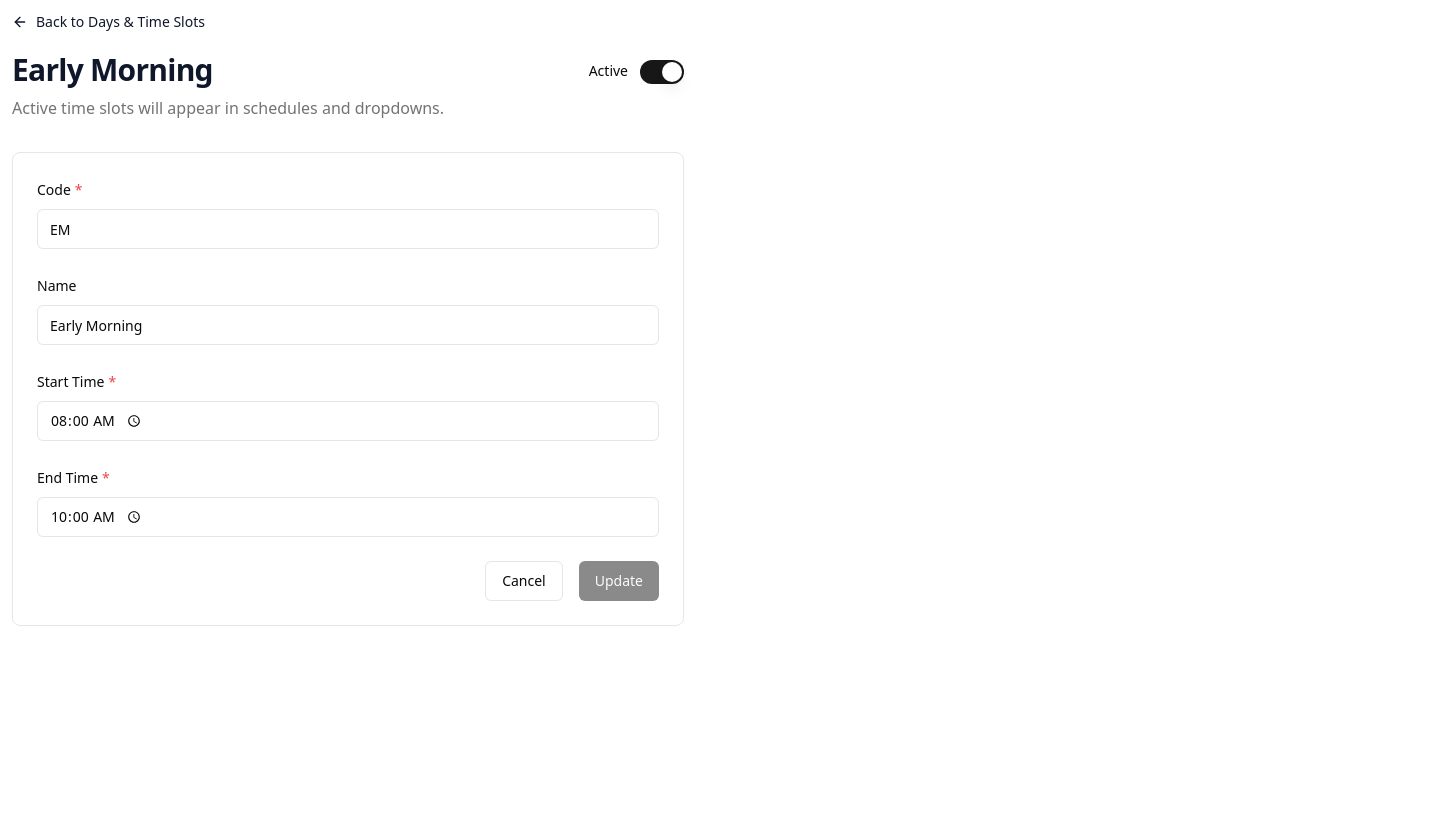
Test: TimeSlotForm (edit) › shows an error when update fails
Replace the text in the field showing "Early Morning" with "Late AM". click: coordinates (348, 325)
box: [37, 305, 659, 345]
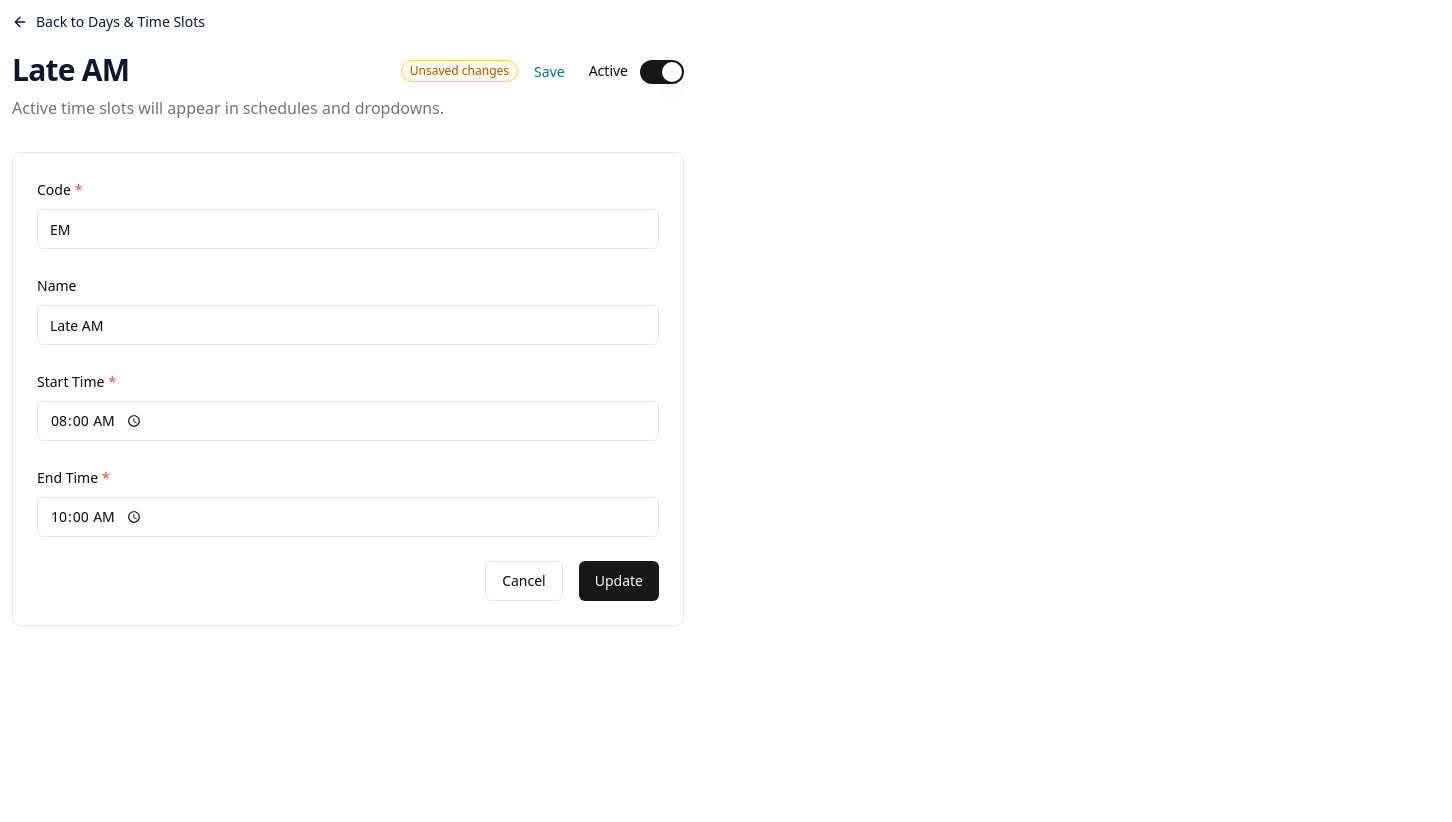
Click the button "Update". click: coordinates (619, 581)
box: [579, 561, 659, 601]
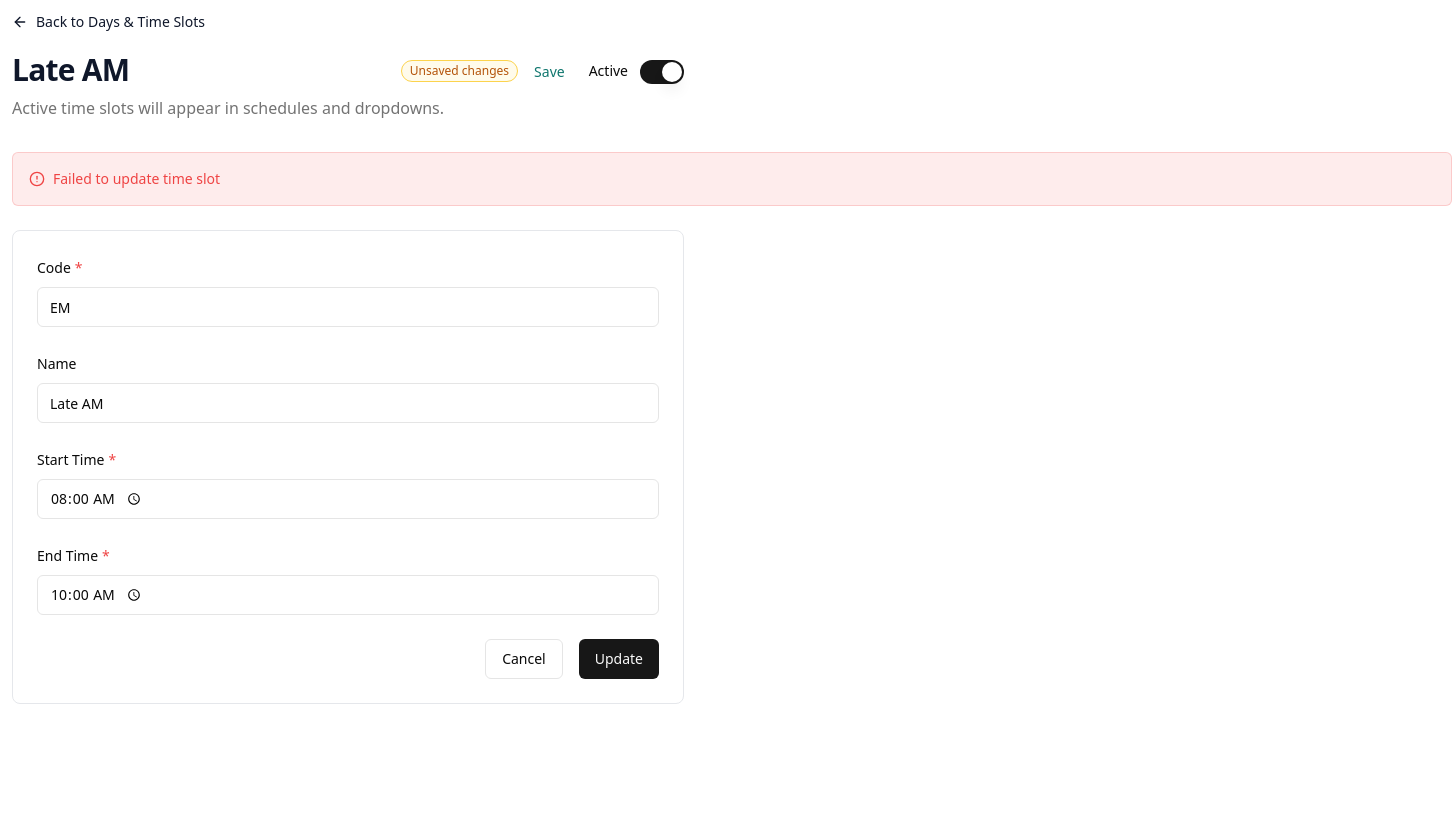
Expected: the text "Failed to update time slot" is shown, [53, 169, 220, 189]
